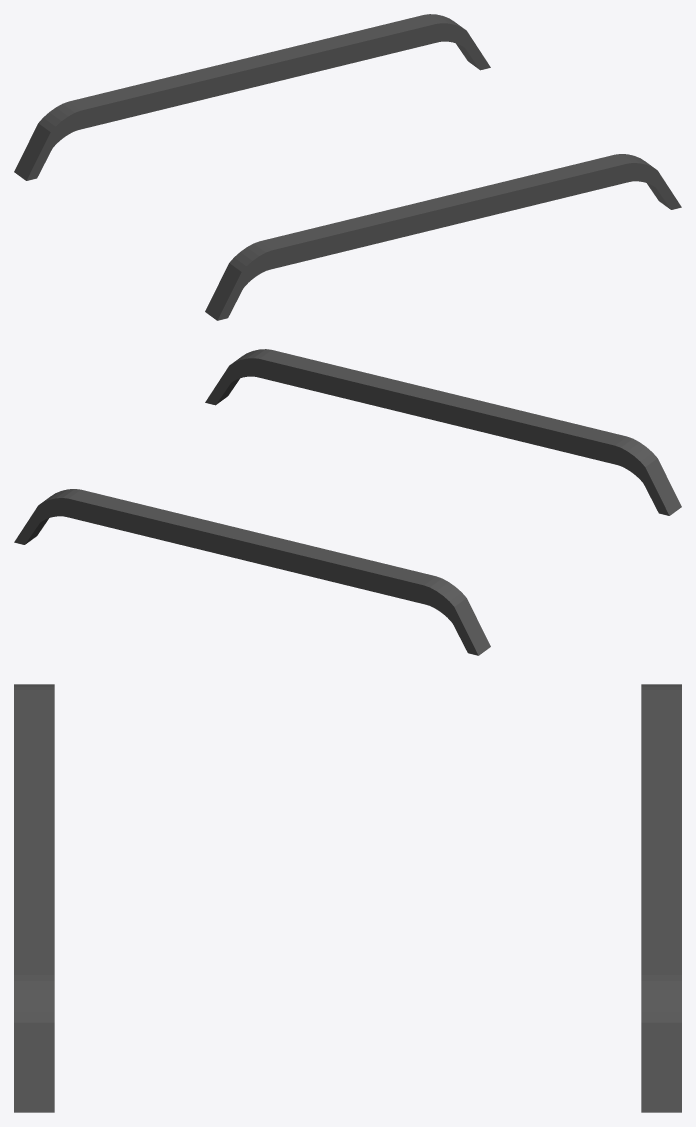
The model's file is RoofRack_1.fbx.
The picture shows the model from 3 angles, top to bottom: view 1: azimuth 30°, elevation 25°; view 2: azimuth 150°, elevation 25°; view 3: azimuth 270°, elevation 25°; orthographic projection. The views are drawn at different scales.
Visible parts, largest first — view 1: Rack; view 2: Rack; view 3: Rack.
Part boxes in pixels (x1,y1,x2,y2): Rack: (14,14,681,320); Rack: (14,349,681,655); Rack: (14,684,681,1112).
Bounding box in the file's own units: 1.12 × 0.1321 × 0.8519.
